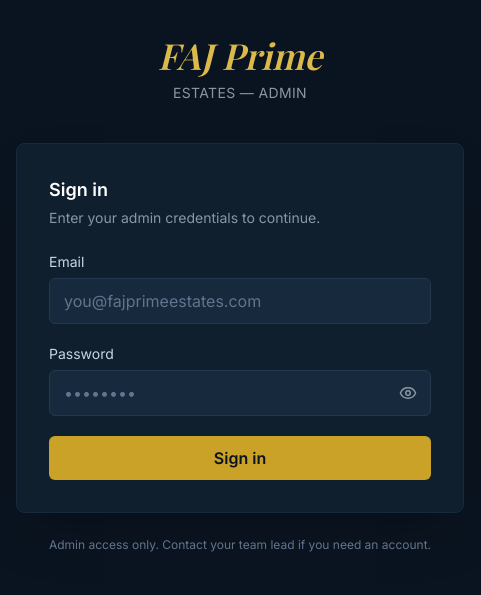
Test: Login page › shows validation errors when submitting an empty form
What coordinates should you click on to do the following:
click the button "Sign in"
I would click on:
 (240, 458)
Its box is x1=49 y1=436 x2=431 y2=480.
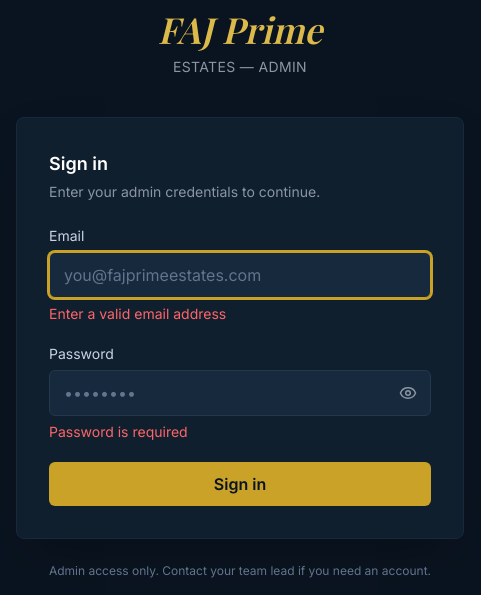
Result: the text "Enter a valid email address" is shown at x1=49 y1=305 x2=226 y2=322
Result: the text "Password is required" is shown at x1=49 y1=423 x2=188 y2=440
